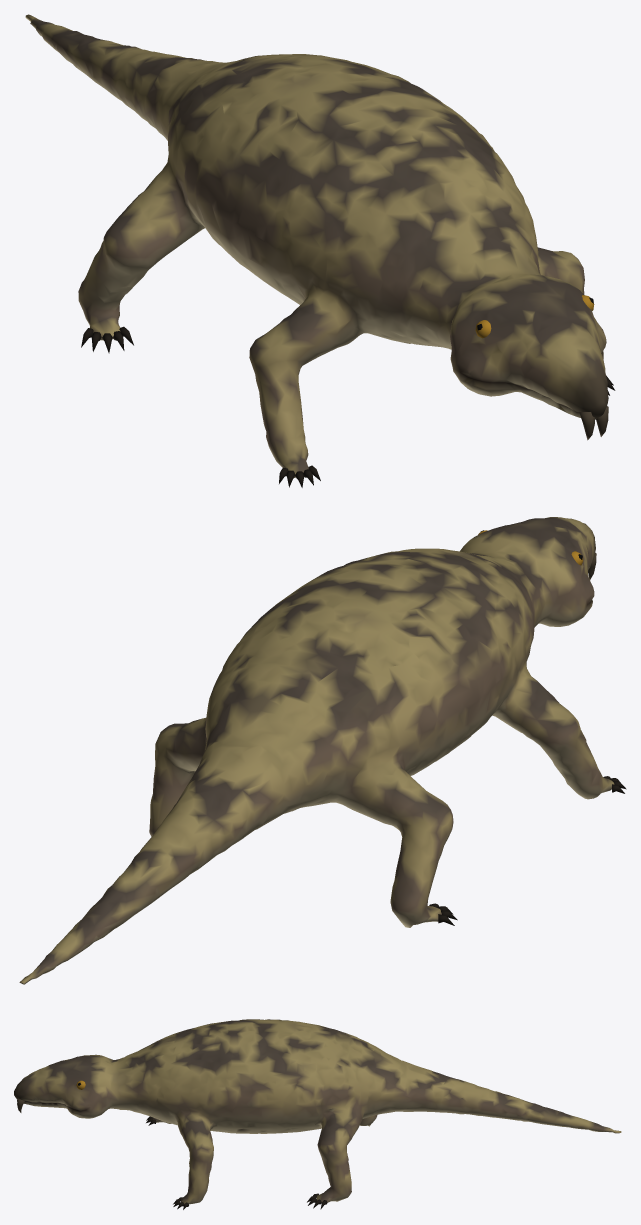
Rendered from Hyperodapedon.fbx.
The picture shows the model from 3 angles, top to bottom: view 1: azimuth 30°, elevation 25°; view 2: azimuth 150°, elevation 25°; view 3: azimuth 270°, elevation 25°; orthographic projection. The views are drawn at different scales.
Parts seen in each view (by area): view 1: Hyperodapedon; view 2: Hyperodapedon; view 3: Hyperodapedon.
Part boxes in pixels (x1=…): Hyperodapedon: x1=25, y1=14, x2=615, y2=487; Hyperodapedon: x1=19, y1=517, x2=626, y2=984; Hyperodapedon: x1=14, y1=1019, x2=621, y2=1209.
Size of the model in its own units: 0.6666 by 0.4782 by 1.92.
